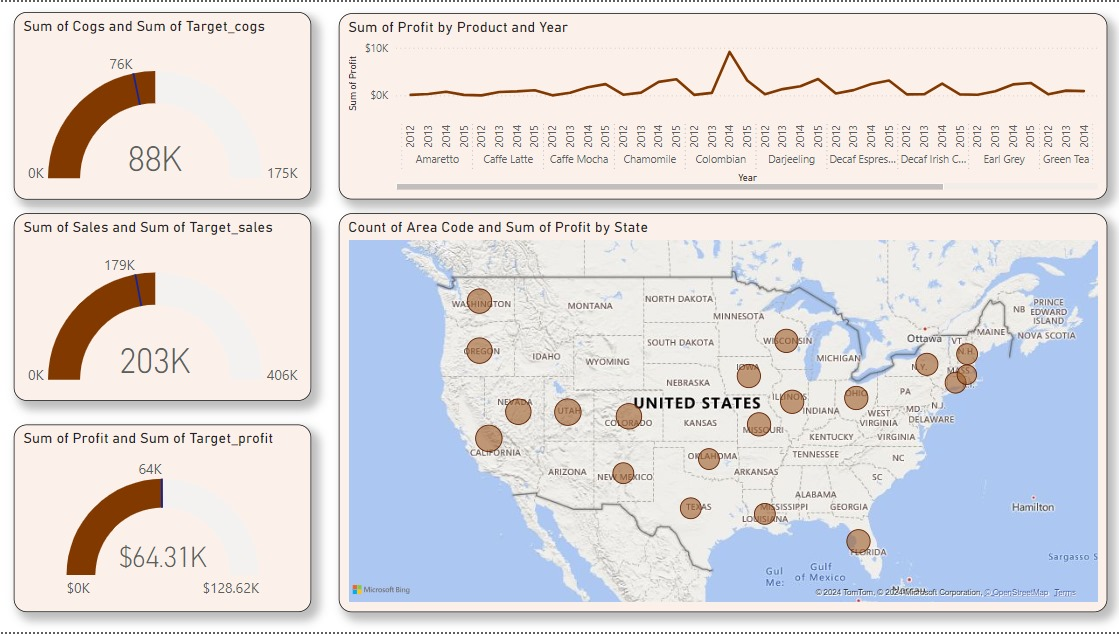

The page's visual inventory and layout, read from the dashboard file:
{"tool":"powerbi","page":{"name":"Region and Target Analysis","canvas":[1280,720],"ordinal":1},"visuals":[{"type":"gauge","fields":{"Y":["Sum(Coffee_Chain_Sales.Cogs)"],"TargetValue":["Sum(Coffee_Chain_Sales.Target_cogs)"]},"box":[15.7,11.4,340,214.3],"z":0},{"type":"gauge","fields":{"Y":["Sum(Coffee_Chain_Sales.Sales)"],"TargetValue":["Sum(Coffee_Chain_Sales.Target_sales )"]},"box":[15.7,241.4,340,214.3],"z":1},{"type":"gauge","fields":{"Y":["Sum(Coffee_Chain_Sales.Profit)"],"TargetValue":["Sum(Coffee_Chain_Sales.Target_profit)"]},"box":[15.7,482.9,340,214.3],"z":2},{"type":"lineChart","fields":{"Category":["Coffee_Chain_Sales.Product","Coffee_Chain_Sales.Date.Variation.Date Hierarchy.Year"],"Y":["Sum(Coffee_Chain_Sales.Profit)"]},"box":[387.1,12.9,878.6,212.9],"z":3},{"type":"map","fields":{"Category":["Coffee_Chain_Sales.State"],"Size":["CountNonNull(Coffee_Chain_Sales.Area Code)"]},"box":[387.1,241.4,878.6,455.7],"z":4}]}

Visuals, with their boxes in screenshot pixels (x1, y1, x2, y2), scaled from the page's 1280x720 canvas onto the 1119x636 screenshot:
gauge - Sum(Coffee_Chain_Sales.Cogs) x Sum(Coffee_Chain_Sales.Target_cogs): 14, 10, 311, 199
gauge - Sum(Coffee_Chain_Sales.Sales) x Sum(Coffee_Chain_Sales.Target_sales ): 14, 213, 311, 403
gauge - Sum(Coffee_Chain_Sales.Profit) x Sum(Coffee_Chain_Sales.Target_profit): 14, 427, 311, 616
lineChart - Coffee_Chain_Sales.Product x Coffee_Chain_Sales.Date.Variation.Date Hierarchy.Year: 338, 11, 1106, 199
map - Coffee_Chain_Sales.State x CountNonNull(Coffee_Chain_Sales.Area Code): 338, 213, 1106, 616
